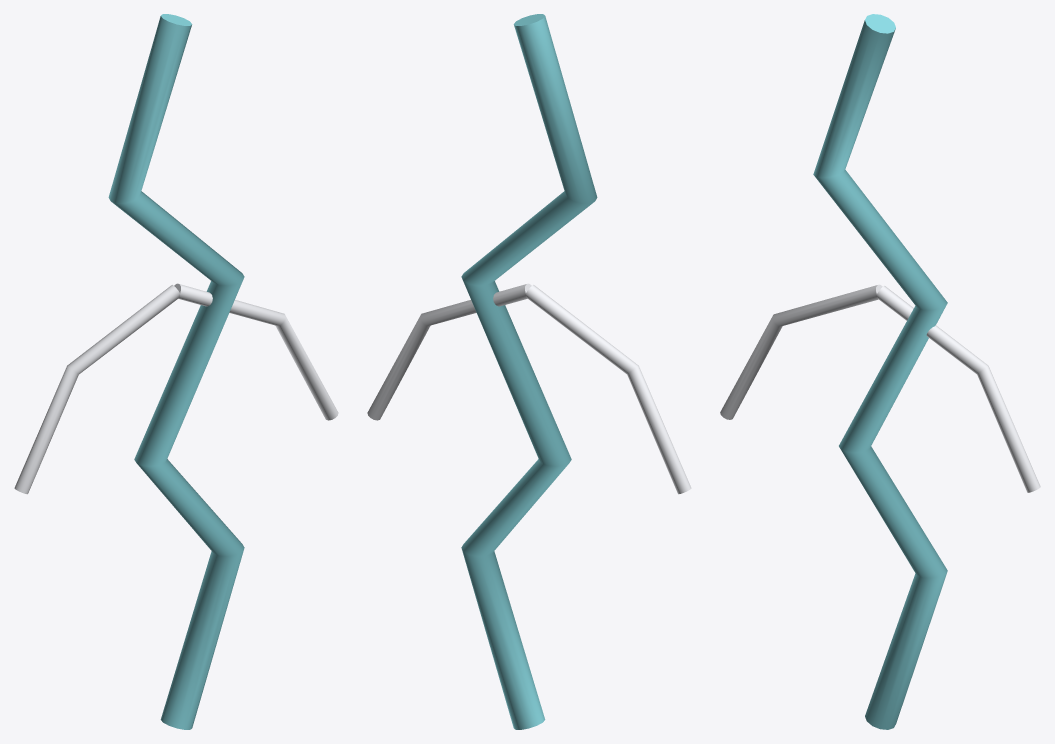
Rendered from conch_dragon_lightning.glb.
The picture shows the model from 3 angles, left to right: view 1: azimuth 30°, elevation 25°; view 2: azimuth 150°, elevation 25°; view 3: azimuth 330°, elevation 25°; orthographic projection.
Size of the model in its own units: 12.45 by 26.35 by 1.1.
